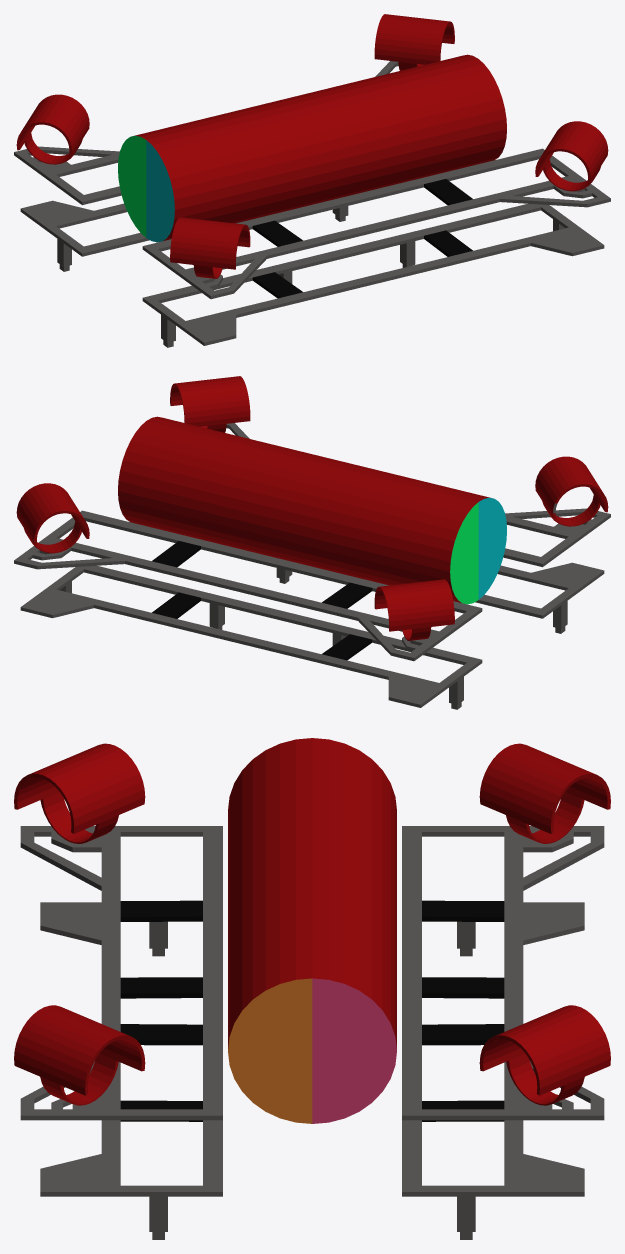
Rendered from puddles.dae.
3 renders of one model, top to bottom at view 1: azimuth 30°, elevation 25°; view 2: azimuth 150°, elevation 25°; view 3: azimuth 270°, elevation 25°, orthographic. The views are drawn at different scales.
Visible parts, largest first — view 1: Cylinder; view 2: Cylinder; view 3: Cylinder.
Part boxes in pixels (left/top/right/bottom): Cylinder: left=14, top=14, right=610, bottom=347; Cylinder: left=14, top=376, right=610, bottom=709; Cylinder: left=14, top=738, right=610, bottom=1239.
Bounding box in the file's own units: 0.9709 × 0.7725 × 0.3397.
